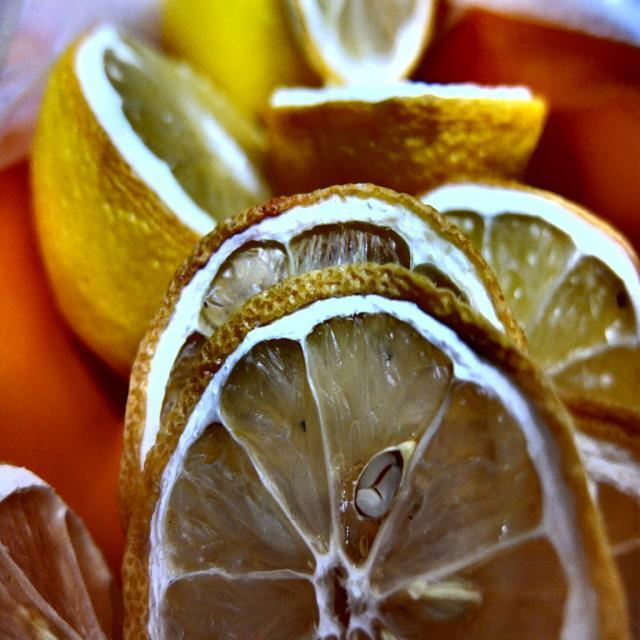Non_Gorille: (3, 6, 636, 640)
